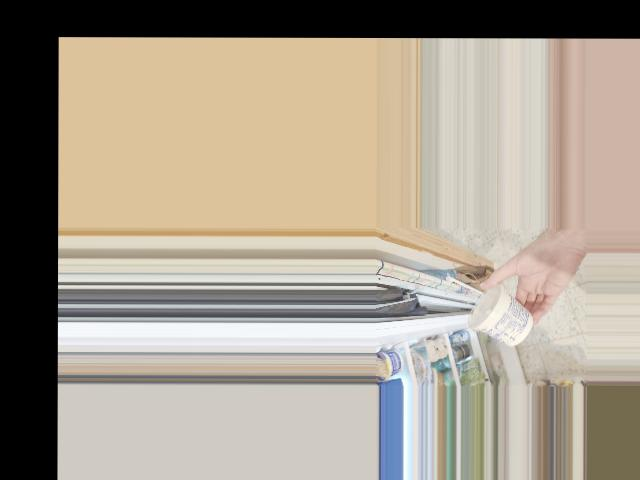cotage: (476, 278, 532, 338)
